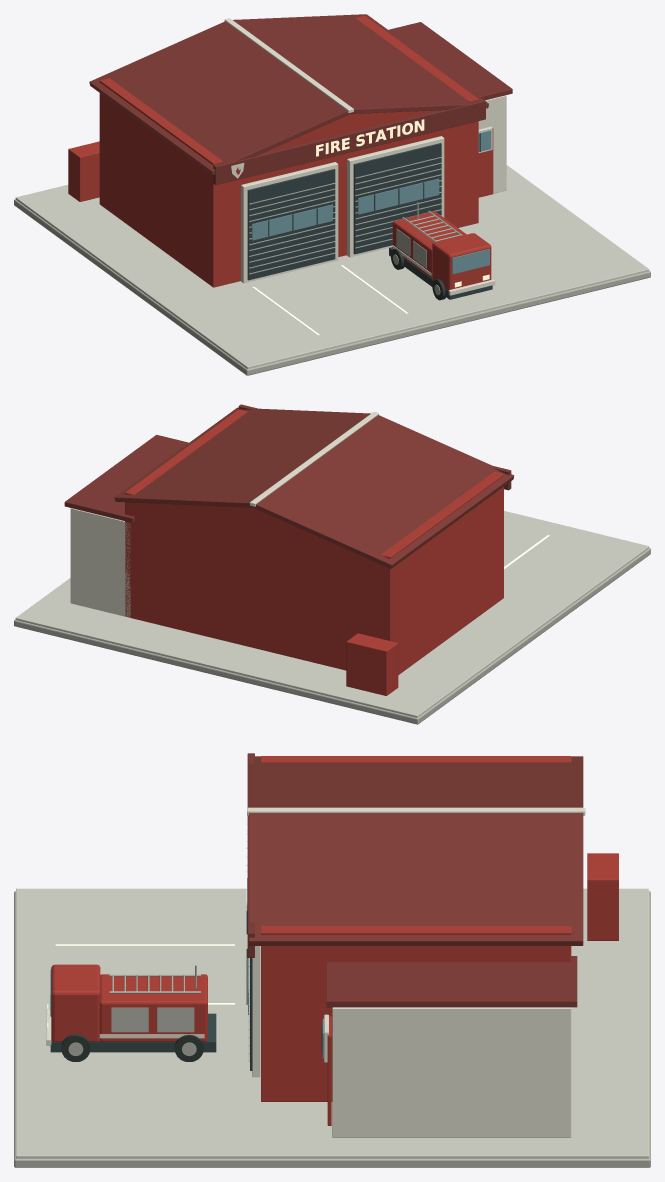
File: small-fire-station.glb
The picture shows the model from 3 angles, top to bottom: view 1: azimuth 30°, elevation 25°; view 2: azimuth 150°, elevation 25°; view 3: azimuth 270°, elevation 25°; orthographic projection. The views are drawn at different scales.
Parts seen in each view (by area): view 1: Paving, SmallStation, PitchedRoof, PitchedRoof.001, GarageShutter, GarageShutter.001, FrontFascia, Lot, AnnexRoof, EngineCab, GarageTrim, GarageTrim.001 (+10 smaller); view 2: SmallStation, Paving, PitchedRoof, PitchedRoof.001, StaffAnnex, Lot, AnnexRoof, HoseCabinet, GableWall.001, Ridge; view 3: Paving, PitchedRoof.001, StaffAnnex, SmallStation, PitchedRoof, AnnexRoof, Lot, EngineRearBody, EngineCab, HoseCabinet, Ridge, EngineChassis (+4 smaller).
Boxes of the visible parts, box(x1,y1,x2,y2) form: Paving: box(15, 165, 649, 369); SmallStation: box(99, 15, 478, 287); PitchedRoof: box(89, 21, 352, 175); PitchedRoof.001: box(233, 14, 488, 113); GarageShutter: box(247, 169, 335, 280); GarageShutter.001: box(353, 143, 441, 254); FrontFascia: box(213, 99, 485, 184); Lot: box(14, 199, 650, 375); AnnexRoof: box(388, 22, 512, 100); EngineCab: box(432, 233, 491, 290); GarageTrim: box(241, 162, 338, 283); GarageTrim.001: box(347, 136, 444, 257); SmallStation: box(125, 409, 503, 674); Paving: box(15, 511, 649, 717); PitchedRoof: box(251, 415, 514, 568); PitchedRoof.001: box(114, 407, 370, 507); StaffAnnex: box(70, 508, 130, 617); Lot: box(14, 548, 650, 724); AnnexRoof: box(64, 434, 188, 522); HoseCabinet: box(346, 633, 398, 695); GableWall.001: box(125, 494, 341, 547); Ridge: box(250, 412, 378, 506); Paving: box(16, 888, 648, 1158); PitchedRoof.001: box(249, 813, 583, 945); StaffAnnex: box(332, 1007, 571, 1137); SmallStation: box(261, 756, 571, 1101); PitchedRoof: box(249, 756, 583, 807); AnnexRoof: box(326, 956, 577, 1007); Lot: box(14, 891, 650, 1167); EngineRearBody: box(100, 974, 207, 1041); EngineCab: box(51, 964, 100, 1041); HoseCabinet: box(587, 853, 618, 940); Ridge: box(247, 807, 585, 815); EngineChassis: box(50, 1013, 216, 1052).
Bounding box in the file's own units: 16 × 5.99 × 16.
